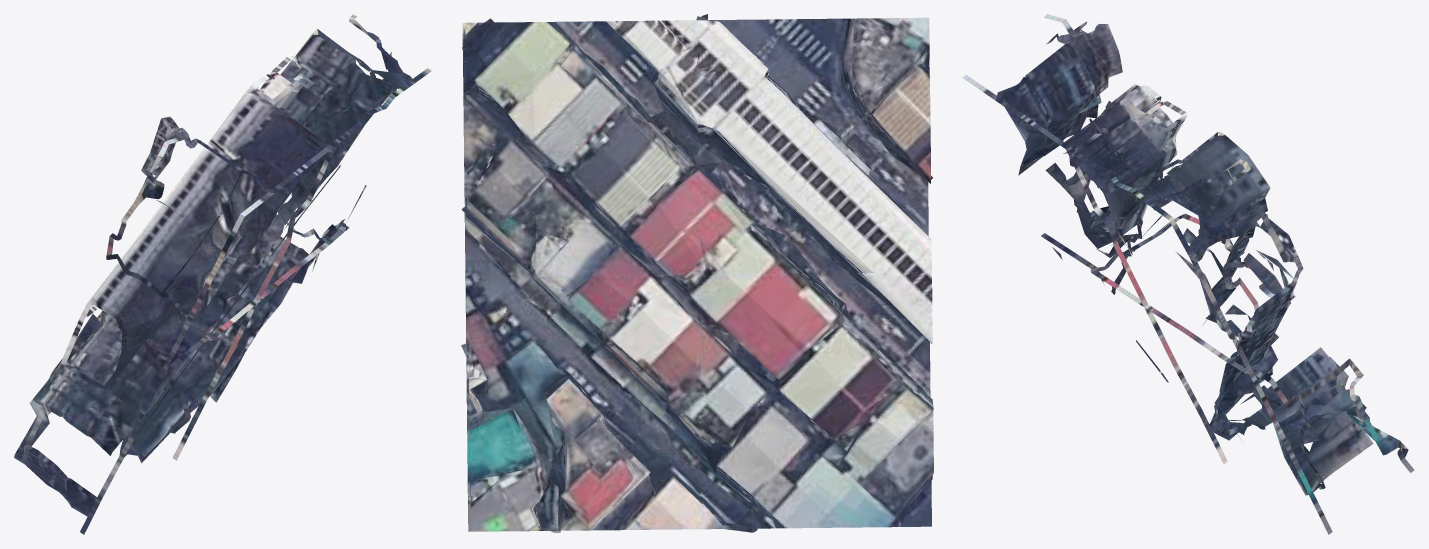
3 renders of one model, left to right at view 1: azimuth 30°, elevation 25°; view 2: azimuth 150°, elevation 25°; view 3: azimuth 270°, elevation 25°, orthographic. The views are drawn at different scales.
Size of the model in its own units: 82.22 by 78.89 by 79.18.
2 materials, 2 textured.
